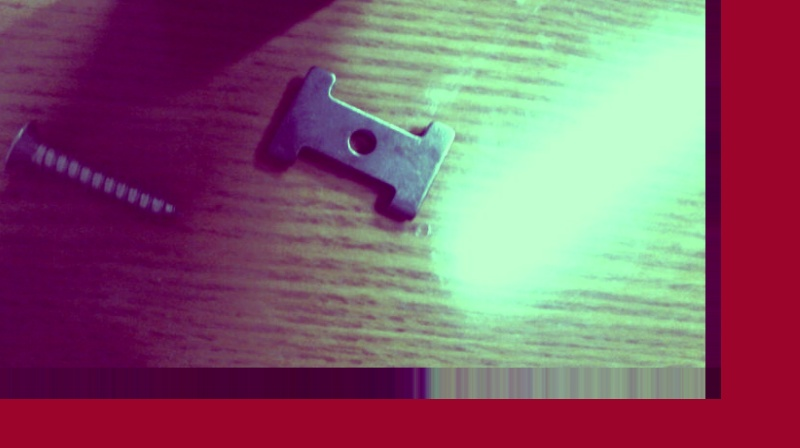O002: (262, 62, 461, 222)
S001: (0, 115, 183, 221)
